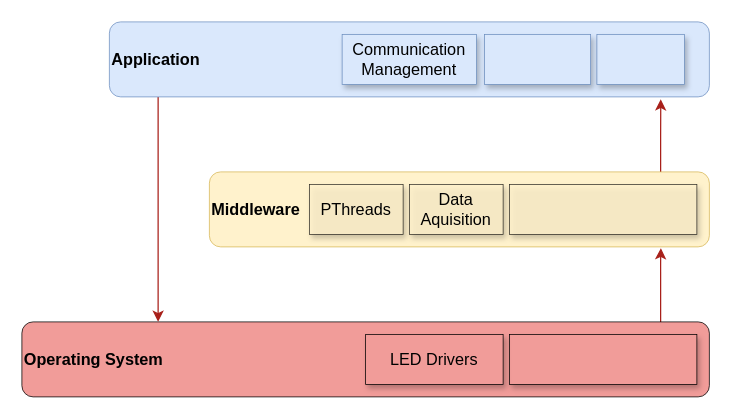
Image size: 731x419. Some labels were removed from this diagram. Here are the shapes that lost their labels. From the top down, the centre of each, then its label:
the point at 538,60: GUI
the point at 641,60: Database
the point at 603,210: Wireless Communication Framework
the point at 603,360: Wireless Communication Drivers
